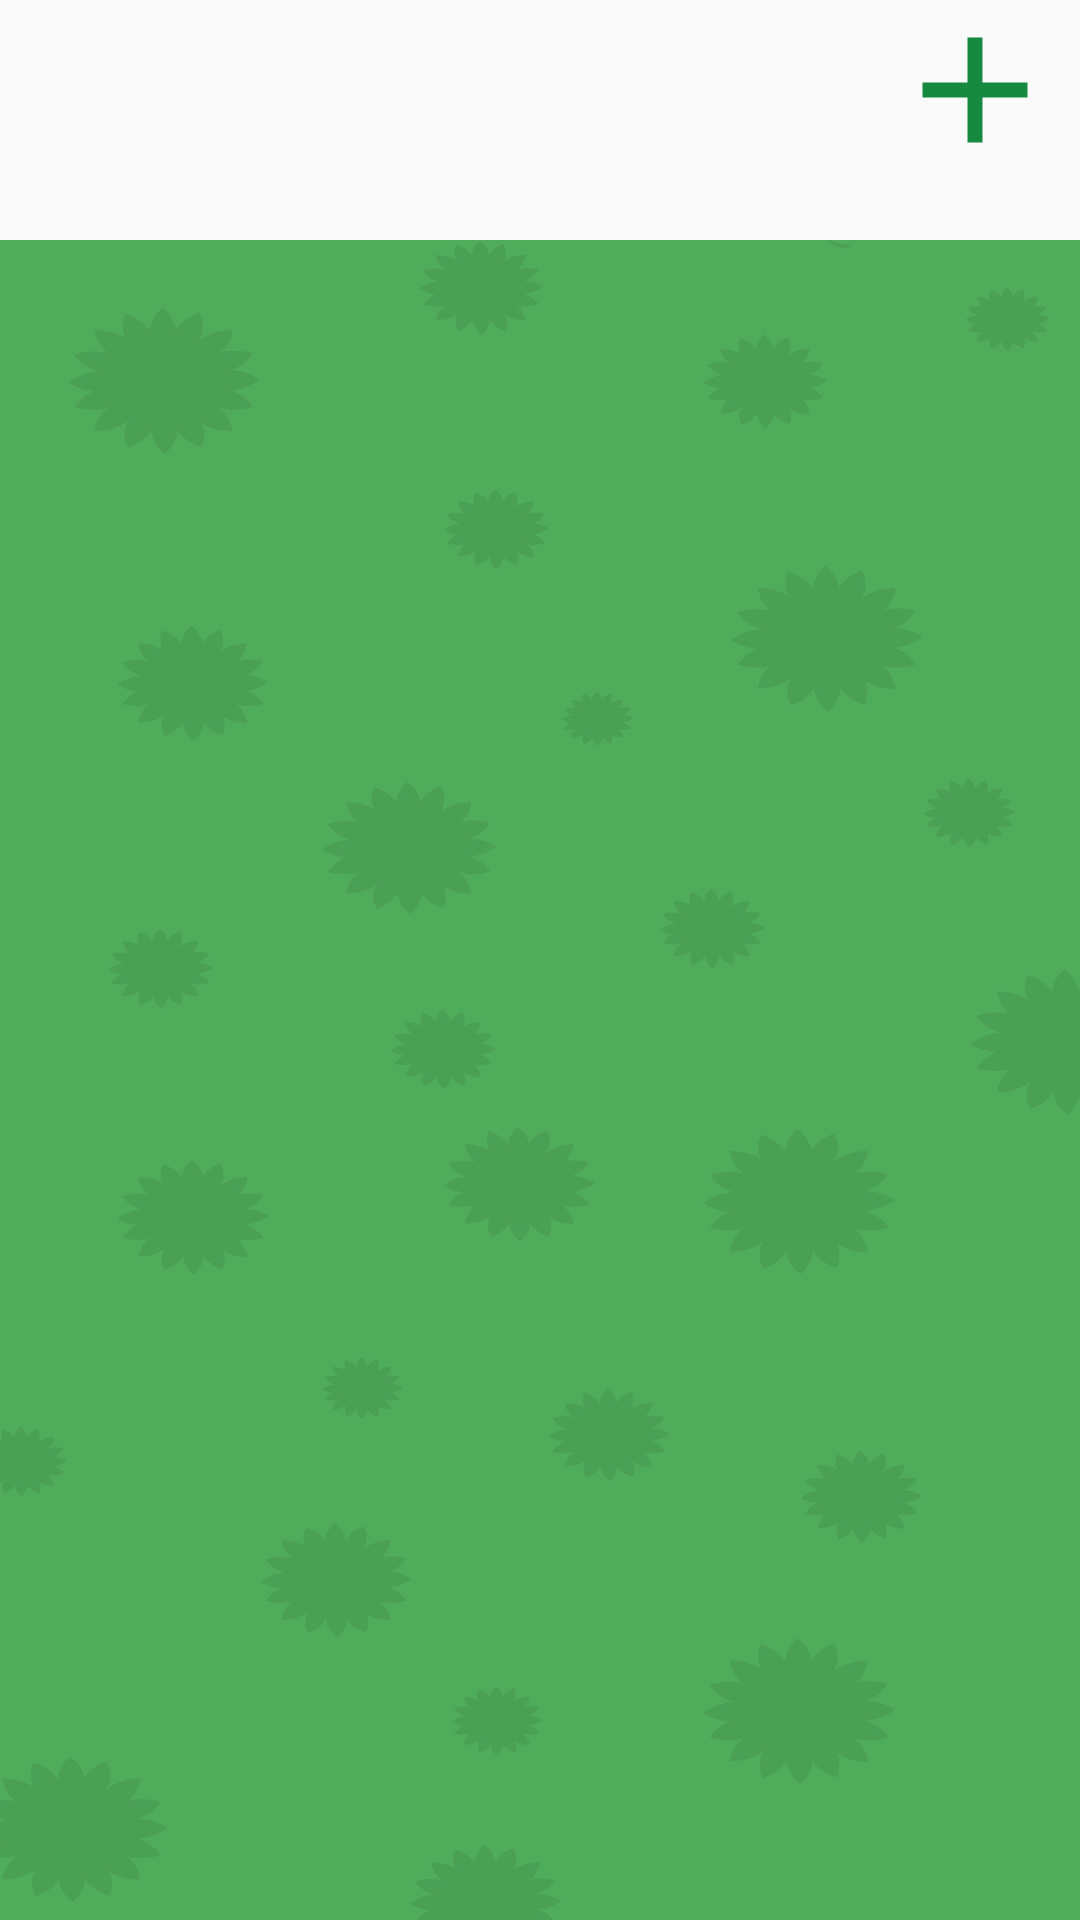

Where icons sit on this 1080px x 1920px app screen, as bbox(x1, y1, x2, y2):
add location: bbox(922, 37, 1028, 143)
